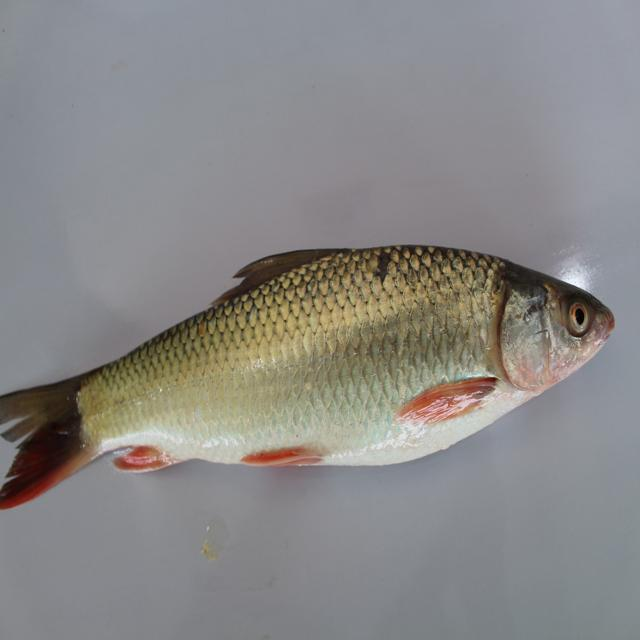Mori: (3, 235, 620, 535)
